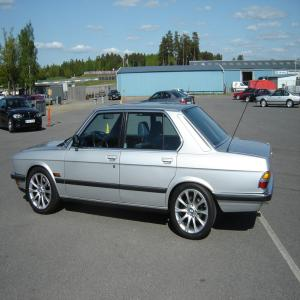Vehicle-registration-plate: (26, 121, 36, 125)
